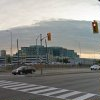crosswalk: (0, 79, 100, 100)
